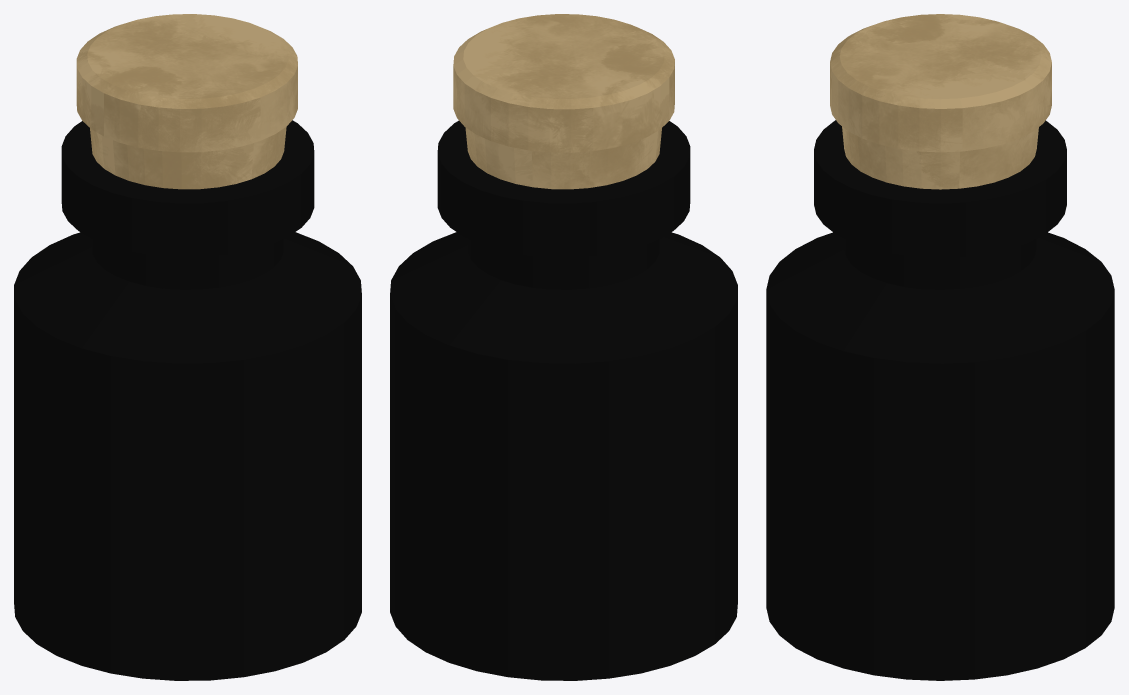
Rendered from BlueExtract.glb.
3 views of the same model, side by side, from view 1: azimuth 30°, elevation 25°; view 2: azimuth 150°, elevation 25°; view 3: azimuth 270°, elevation 25° (orthographic).
Parts seen in each view (by area): view 1: Cylinder, Cylinder.001; view 2: Cylinder, Cylinder.001; view 3: Cylinder, Cylinder.001.
Boxes of the visible parts, x1=… form: Cylinder: x1=14, y1=120, x2=361, y2=680; Cylinder.001: x1=76, y1=14, x2=297, y2=189; Cylinder: x1=390, y1=120, x2=737, y2=680; Cylinder.001: x1=453, y1=14, x2=674, y2=189; Cylinder: x1=766, y1=120, x2=1114, y2=680; Cylinder.001: x1=830, y1=14, x2=1051, y2=189.
Bounding box in the file's own units: 0.7013 × 1.22 × 0.7013.
2 materials, 2 textured.
